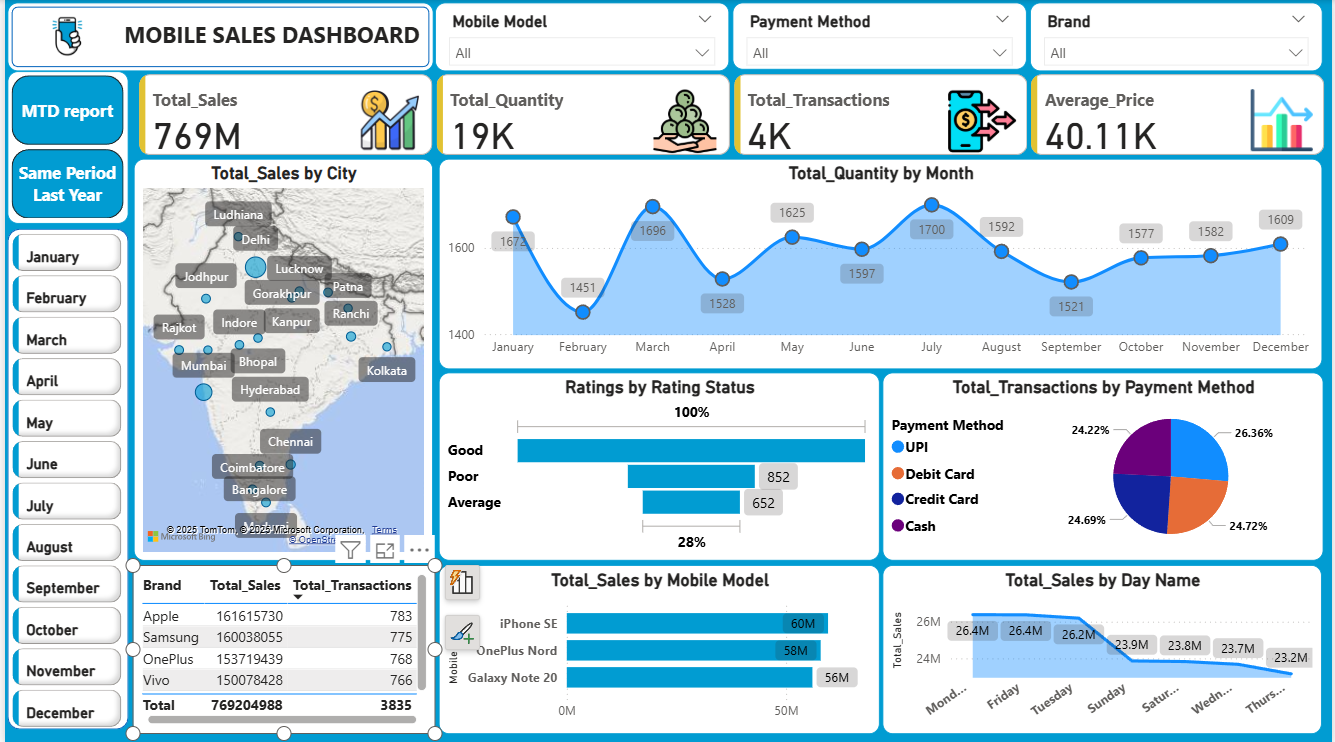

This screenshot's page, from the dashboard's own definition file:
{"tool":"powerbi","page":{"name":"Dashboard","canvas":[1280,720],"ordinal":0},"visuals":[{"type":"shape","box":[2.9,220.7,116.9,483.3],"z":0},{"type":"advancedSlicerVisual","fields":{"Values":["Custom_Calender.Date.Variation.Date Hierarchy.Month"]},"box":[2.9,220.7,115.4,487.7],"z":1000},{"type":"cardVisual","fields":{"Data":["Custom_Calender.Total_Sales","Custom_Calender.Total_Quantity","Mobile_Sales_Data.Total_Transactions","Mobile_Sales_Data.Average_Price"]},"box":[125.5,67.8,1154.2,86.6],"z":2000},{"type":"slicer","fields":{"Values":["Mobile_Sales_Data.Mobile Model"]},"box":[415.5,2.9,284.2,66.4],"z":3000},{"type":"slicer","fields":{"Values":["Mobile_Sales_Data.Payment Method"]},"box":[702.6,2.9,284.2,64.9],"z":4000},{"type":"slicer","fields":{"Values":["Mobile_Sales_Data.Brand"]},"box":[989.7,2.9,282.8,66.4],"z":5000},{"type":"shape","box":[2.9,2.9,411.2,66.4],"z":6000},{"type":"textbox","box":[30.3,13,388.1,44.7],"z":7000},{"type":"map","fields":{"Category":["Mobile_Sales_Data.City"],"Size":["Custom_Calender.Total_Sales"]},"box":[124.1,152.9,288.6,388.1],"z":8000},{"type":"lineChart","fields":{"Category":["Custom_Calender.Date.Variation.Date Hierarchy.Month"],"Y":["Custom_Calender.Total_Quantity"]},"box":[418.4,152.9,852.7,203.4],"z":9000},{"type":"funnel","title":" Ratings by Rating Status","fields":{"Y":["CountNonNull(Mobile_Sales_Data.Customer Ratings)"],"Category":["Mobile_Sales_Data.Rating Status"]},"box":[418.4,359.2,425.6,181.8],"z":10000},{"type":"pieChart","fields":{"Y":["Mobile_Sales_Data.Total_Transactions"],"Category":["Mobile_Sales_Data.Payment Method"]},"box":[846.9,359.2,425.6,181.8],"z":11000},{"type":"clusteredBarChart","fields":{"Y":["Custom_Calender.Total_Sales"],"Category":["Mobile_Sales_Data.Mobile Model"]},"box":[418.4,545.4,425.6,163],"z":12000},{"type":"areaChart","fields":{"Y":["Custom_Calender.Total_Sales"],"Category":["Custom_Calender.Day Name"]},"box":[846.9,545.4,424.2,163],"z":13000},{"type":"tableEx","fields":{"Values":["Mobile_Sales_Data.Brand","Custom_Calender.Total_Sales","Mobile_Sales_Data.Total_Transactions"]},"box":[122.6,545.4,292.9,163],"z":14000},{"type":"pageNavigator","box":[2.9,69.3,116.9,147.2],"z":15000},{"type":"image","box":[18.8,5.8,82.2,57.7],"z":16000}]}

Visuals, with their boxes in screenshot pixels (x1, y1, x2, y2), scaled from the page's 1280x720 canvas onto the 1335x742 screenshot:
shape: box=[3, 227, 125, 726]
advancedSlicerVisual - Custom_Calender.Date.Variation.Date Hierarchy.Month: box=[3, 227, 123, 730]
cardVisual - Custom_Calender.Total_Sales x Custom_Calender.Total_Quantity: box=[131, 70, 1334, 159]
slicer - Mobile_Sales_Data.Mobile Model: box=[433, 3, 730, 71]
slicer - Mobile_Sales_Data.Payment Method: box=[733, 3, 1029, 70]
slicer - Mobile_Sales_Data.Brand: box=[1032, 3, 1327, 71]
shape: box=[3, 3, 432, 71]
textbox: box=[32, 13, 436, 59]
map - Mobile_Sales_Data.City x Custom_Calender.Total_Sales: box=[129, 158, 430, 558]
lineChart - Custom_Calender.Date.Variation.Date Hierarchy.Month x Custom_Calender.Total_Quantity: box=[436, 158, 1326, 367]
" Ratings by Rating Status" funnel: box=[436, 370, 880, 558]
pieChart - Mobile_Sales_Data.Total_Transactions x Mobile_Sales_Data.Payment Method: box=[883, 370, 1327, 558]
clusteredBarChart - Custom_Calender.Total_Sales x Mobile_Sales_Data.Mobile Model: box=[436, 562, 880, 730]
areaChart - Custom_Calender.Total_Sales x Custom_Calender.Day Name: box=[883, 562, 1326, 730]
tableEx - Mobile_Sales_Data.Brand x Custom_Calender.Total_Sales: box=[128, 562, 433, 730]
pageNavigator: box=[3, 71, 125, 223]
image: box=[20, 6, 105, 65]
